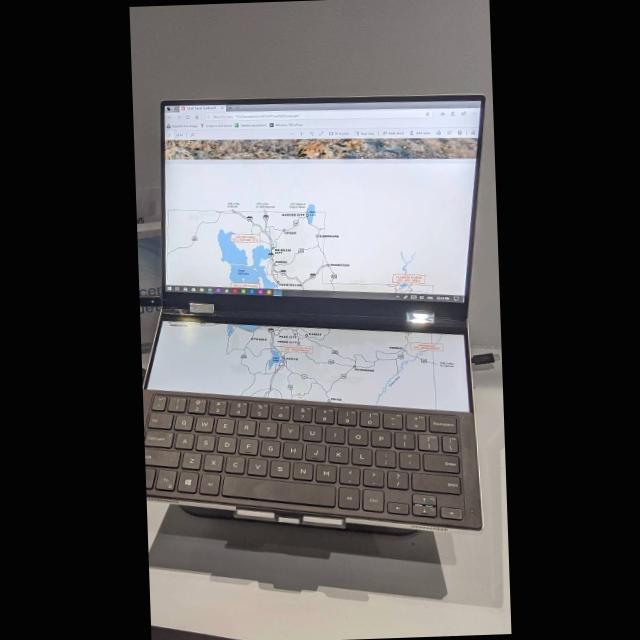laptop: (144, 94, 484, 531)
